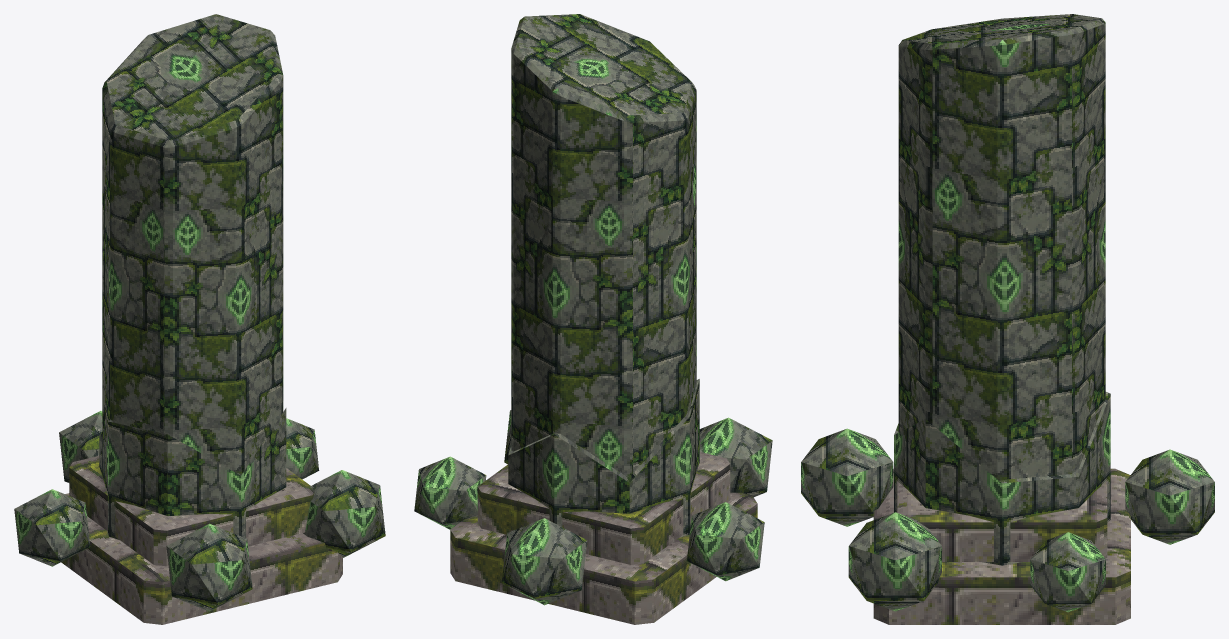
The model's file is sanct_pillar.glb.
3 renders of one model, left to right at view 1: azimuth 30°, elevation 25°; view 2: azimuth 150°, elevation 25°; view 3: azimuth 270°, elevation 25°, orthographic. The views are drawn at different scales.
Visible parts, largest first — view 1: Column, Stub, Base; view 2: Column, Stub, Base; view 3: Column, Stub, Base.
Boxes of the visible parts, left/top/right/bottom form: Column: left=69, top=14, right=314, bottom=566; Stub: left=14, top=408, right=385, bottom=611; Base: left=61, top=493, right=342, bottom=624; Column: left=477, top=14, right=730, bottom=564; Stub: left=414, top=379, right=772, bottom=605; Base: left=450, top=492, right=757, bottom=624; Column: left=897, top=14, right=1107, bottom=561; Stub: left=801, top=392, right=1214, bottom=612; Base: left=873, top=468, right=1130, bottom=624.
Size of the model in its own units: 3 by 4.7 by 3.06.
2 materials, 2 textured.
